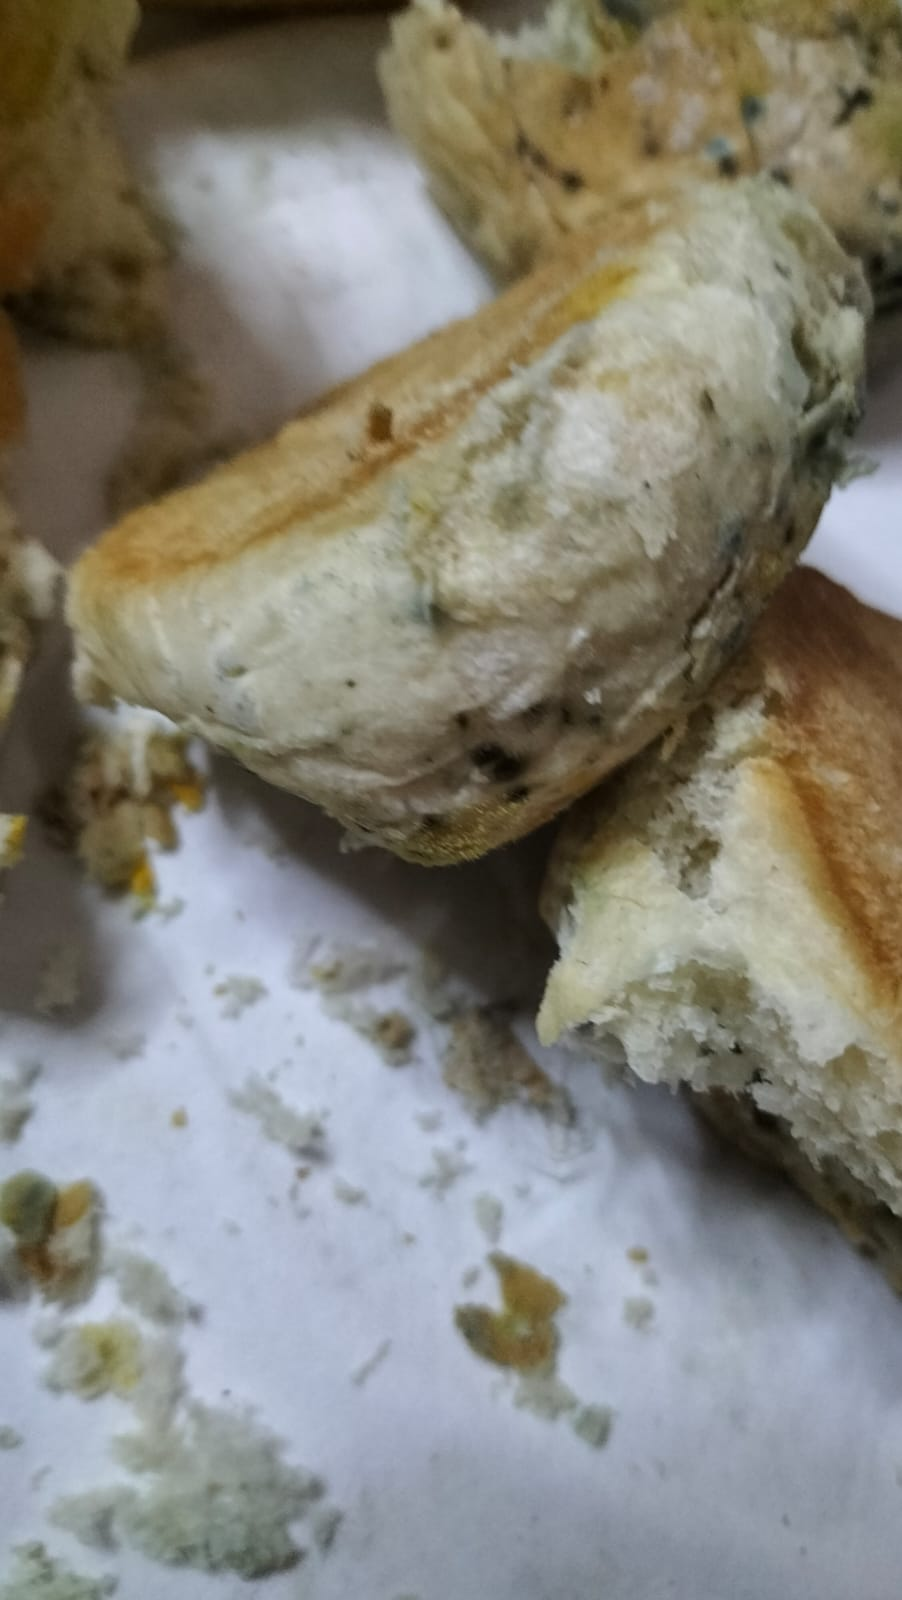mold_bread: (466, 738, 560, 812), (407, 590, 460, 635), (710, 516, 751, 564), (706, 132, 742, 182), (733, 91, 768, 127), (448, 701, 474, 734), (519, 695, 544, 725)
